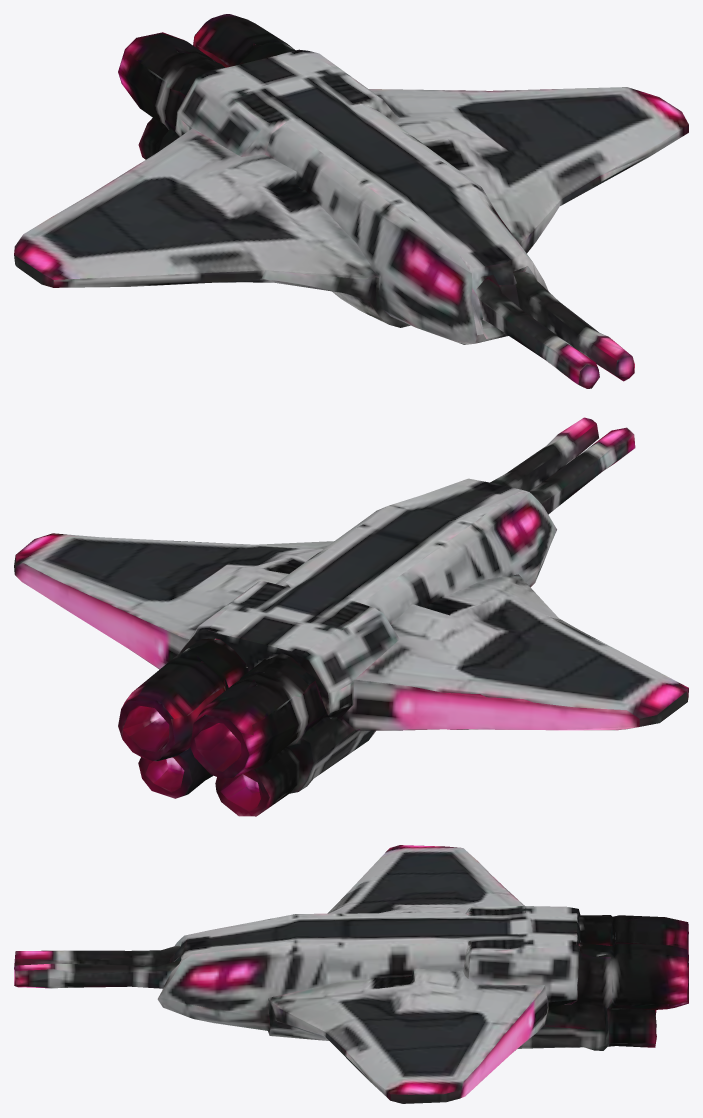
The model's file is enemy-shooter-s1.glb.
3 views of the same model, one above another, from view 1: azimuth 30°, elevation 25°; view 2: azimuth 150°, elevation 25°; view 3: azimuth 270°, elevation 25° (orthographic). The views are drawn at different scales.
Parts seen in each view (by area): view 1: 85775bae-5782-4804-8cdf-365772ca311a_texturing.obj; view 2: 85775bae-5782-4804-8cdf-365772ca311a_texturing.obj; view 3: 85775bae-5782-4804-8cdf-365772ca311a_texturing.obj.
Boxes of the visible parts, bbox=[...] form: 85775bae-5782-4804-8cdf-365772ca311a_texturing.obj: bbox=[14, 14, 688, 388]; 85775bae-5782-4804-8cdf-365772ca311a_texturing.obj: bbox=[14, 417, 688, 816]; 85775bae-5782-4804-8cdf-365772ca311a_texturing.obj: bbox=[14, 845, 688, 1103].
Size of the model in its own units: 1.75 by 0.3463 by 1.99.
Materials: 1 (1 with a texture image).
